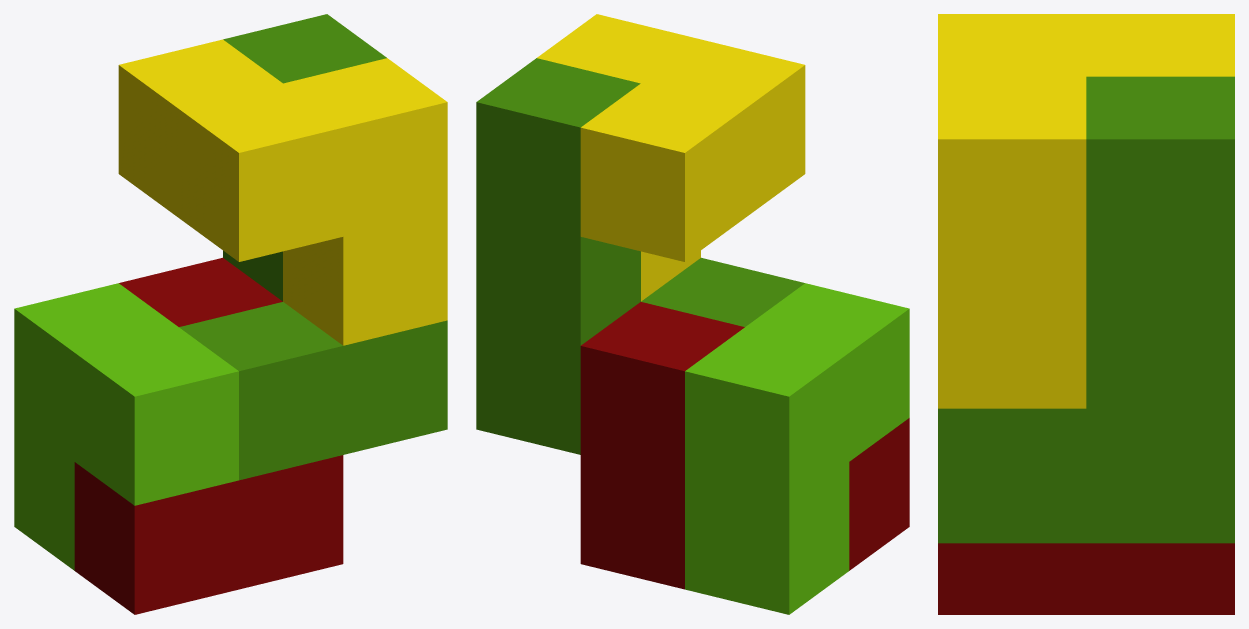
3 renders of one model, left to right at view 1: azimuth 30°, elevation 25°; view 2: azimuth 150°, elevation 25°; view 3: azimuth 270°, elevation 25°, orthographic. The views are drawn at different scales.
Visible parts, largest first — view 1: mergedBlocks(Clone); view 2: mergedBlocks(Clone); view 3: mergedBlocks(Clone).
Part boxes in pixels (<box>): mergedBlocks(Clone): <box>14,14,447,614</box>; mergedBlocks(Clone): <box>476,14,909,614</box>; mergedBlocks(Clone): <box>938,14,1234,614</box>.
Bounding box in the file's own units: 3 × 4 × 2.
4 materials, 4 textured.
